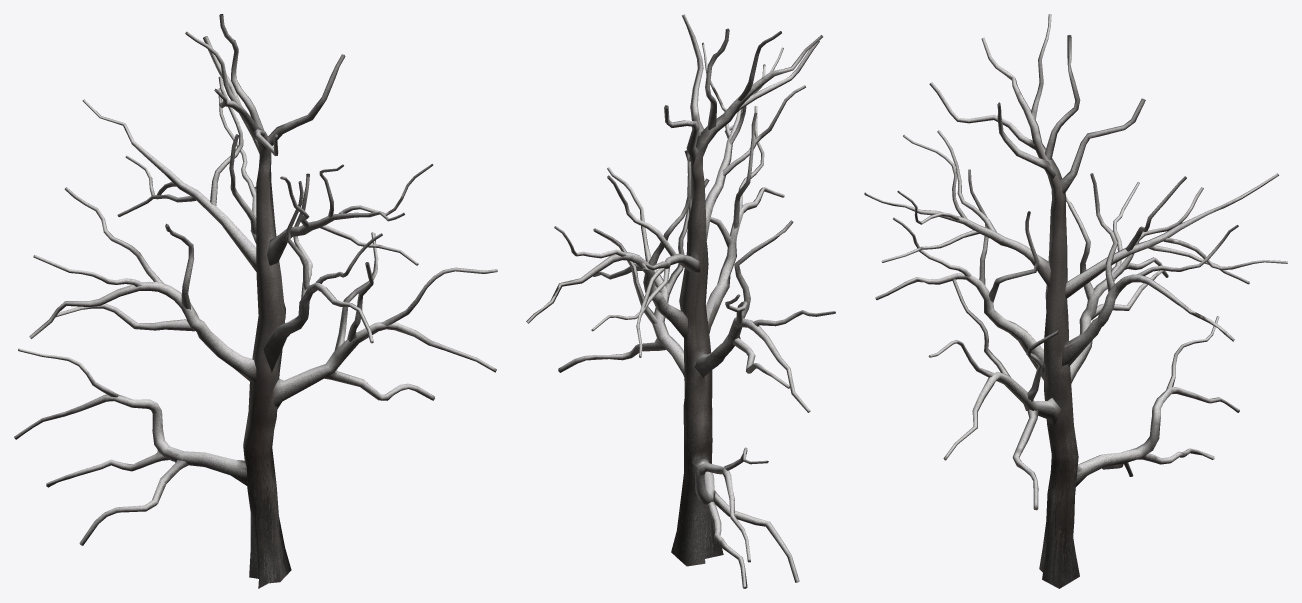
The model's file is Oak-1.obj.
3 views of the same model, side by side, from view 1: azimuth 30°, elevation 25°; view 2: azimuth 150°, elevation 25°; view 3: azimuth 270°, elevation 25° (orthographic). The views are drawn at different scales.
Visible parts, largest first — view 1: Oak_1; view 2: Oak_1; view 3: Oak_1.
Boxes of the visible parts, <box> form: Oak_1: <box>14,14,497,588</box>; Oak_1: <box>526,14,835,588</box>; Oak_1: <box>864,14,1287,588</box>.
Size of the model in its own units: 3.31 by 5.01 by 3.66.
